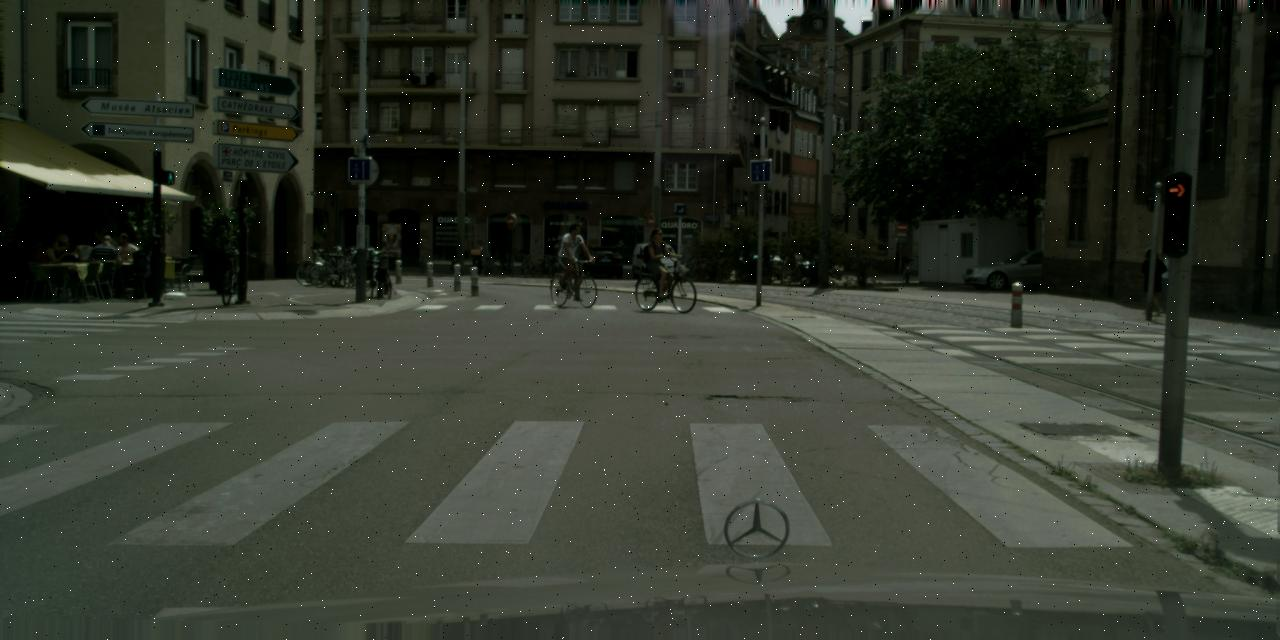ped: (558, 222, 588, 293), (1136, 248, 1163, 314), (648, 228, 675, 294), (1152, 250, 1177, 311)
